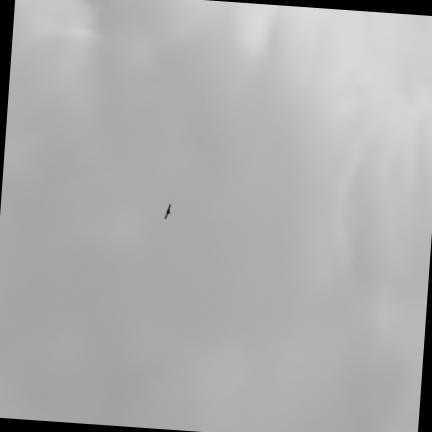Shahed: (164, 203, 170, 217)
